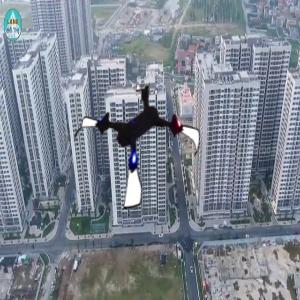drone: (73, 79, 206, 212)
